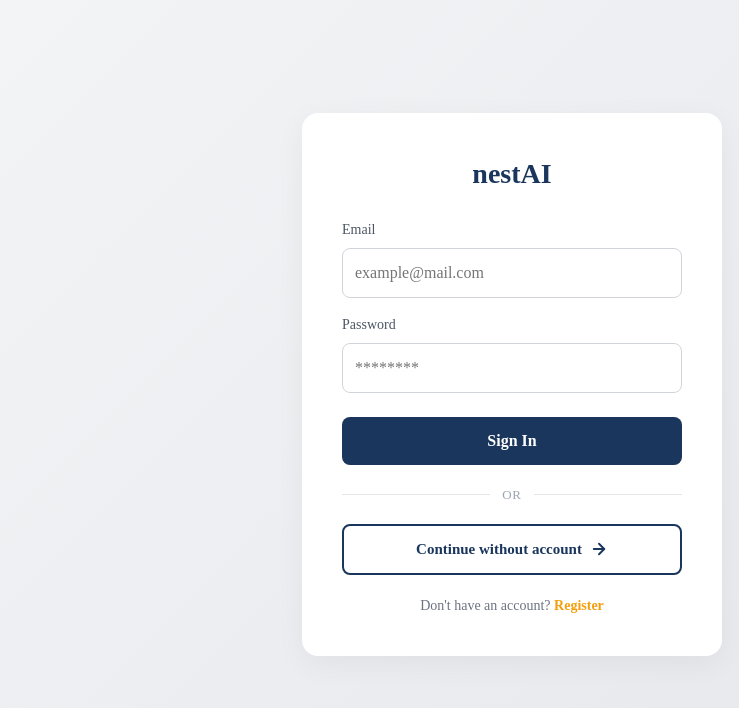
Test: Login Page › shows error on failed login
In the field with placeholder "example@mail.com": (512, 272) left=342, top=248, right=682, bottom=298, type "bad@test.com"
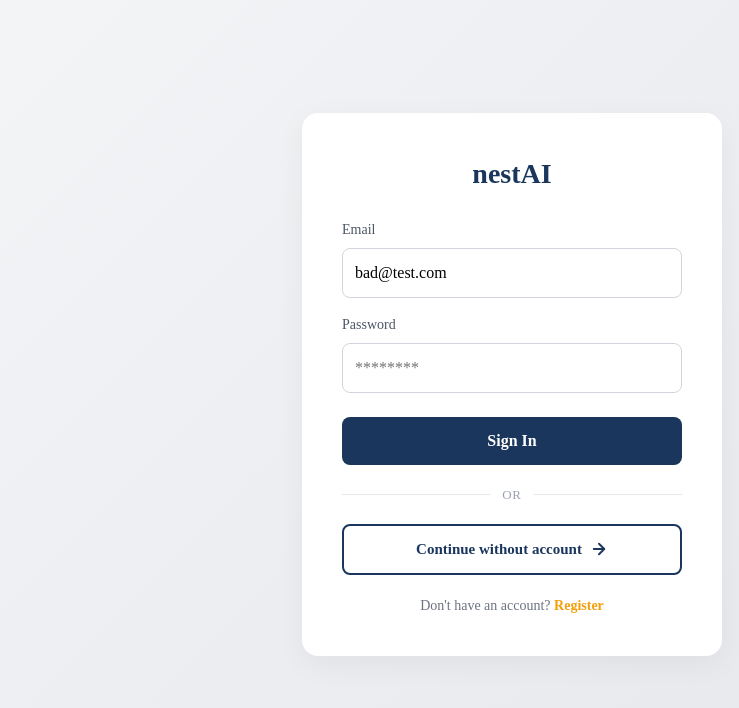
In the password field with placeholder "********": (512, 368) left=342, top=342, right=682, bottom=392, type "wrong"
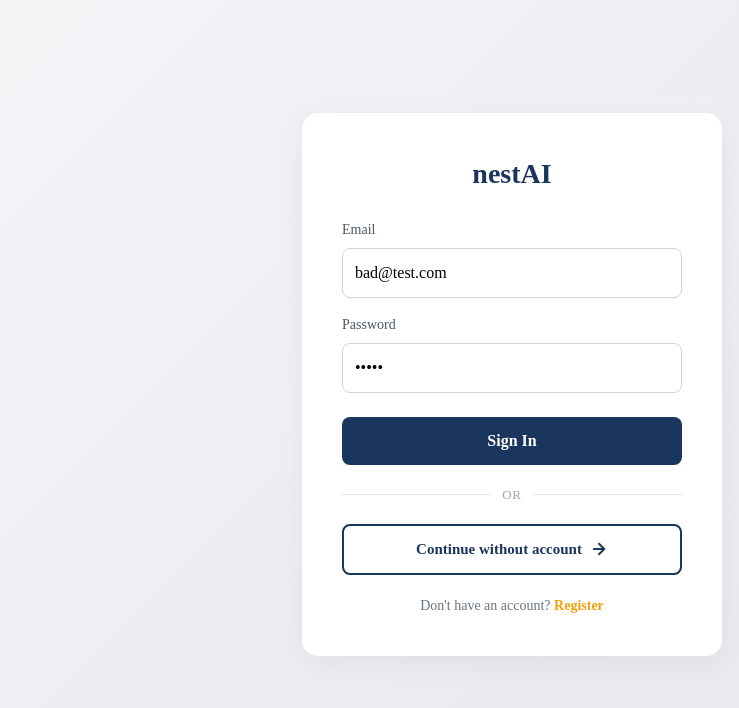
Click the button "Sign In": (512, 440) left=342, top=416, right=682, bottom=464
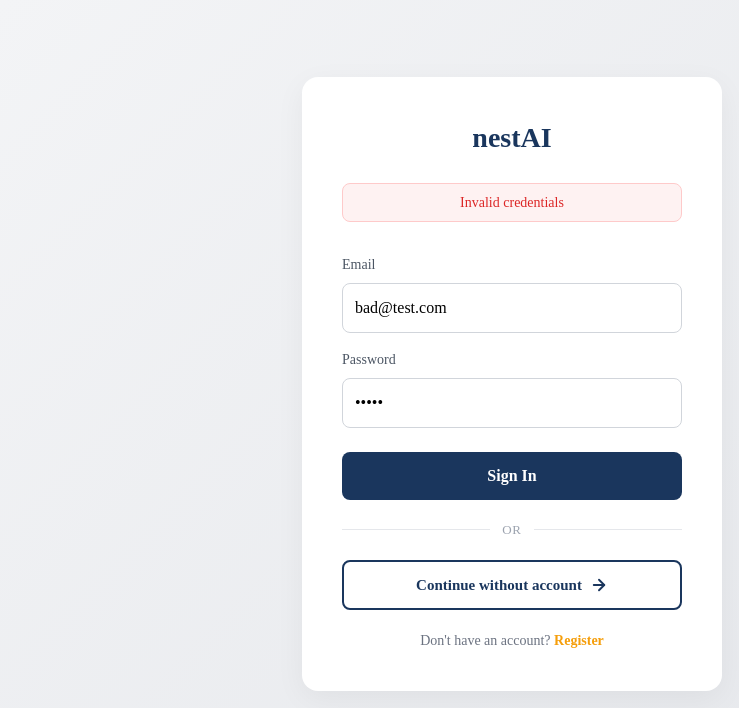
Expected: the text "Invalid credentials" is shown, left=342, top=183, right=682, bottom=222
